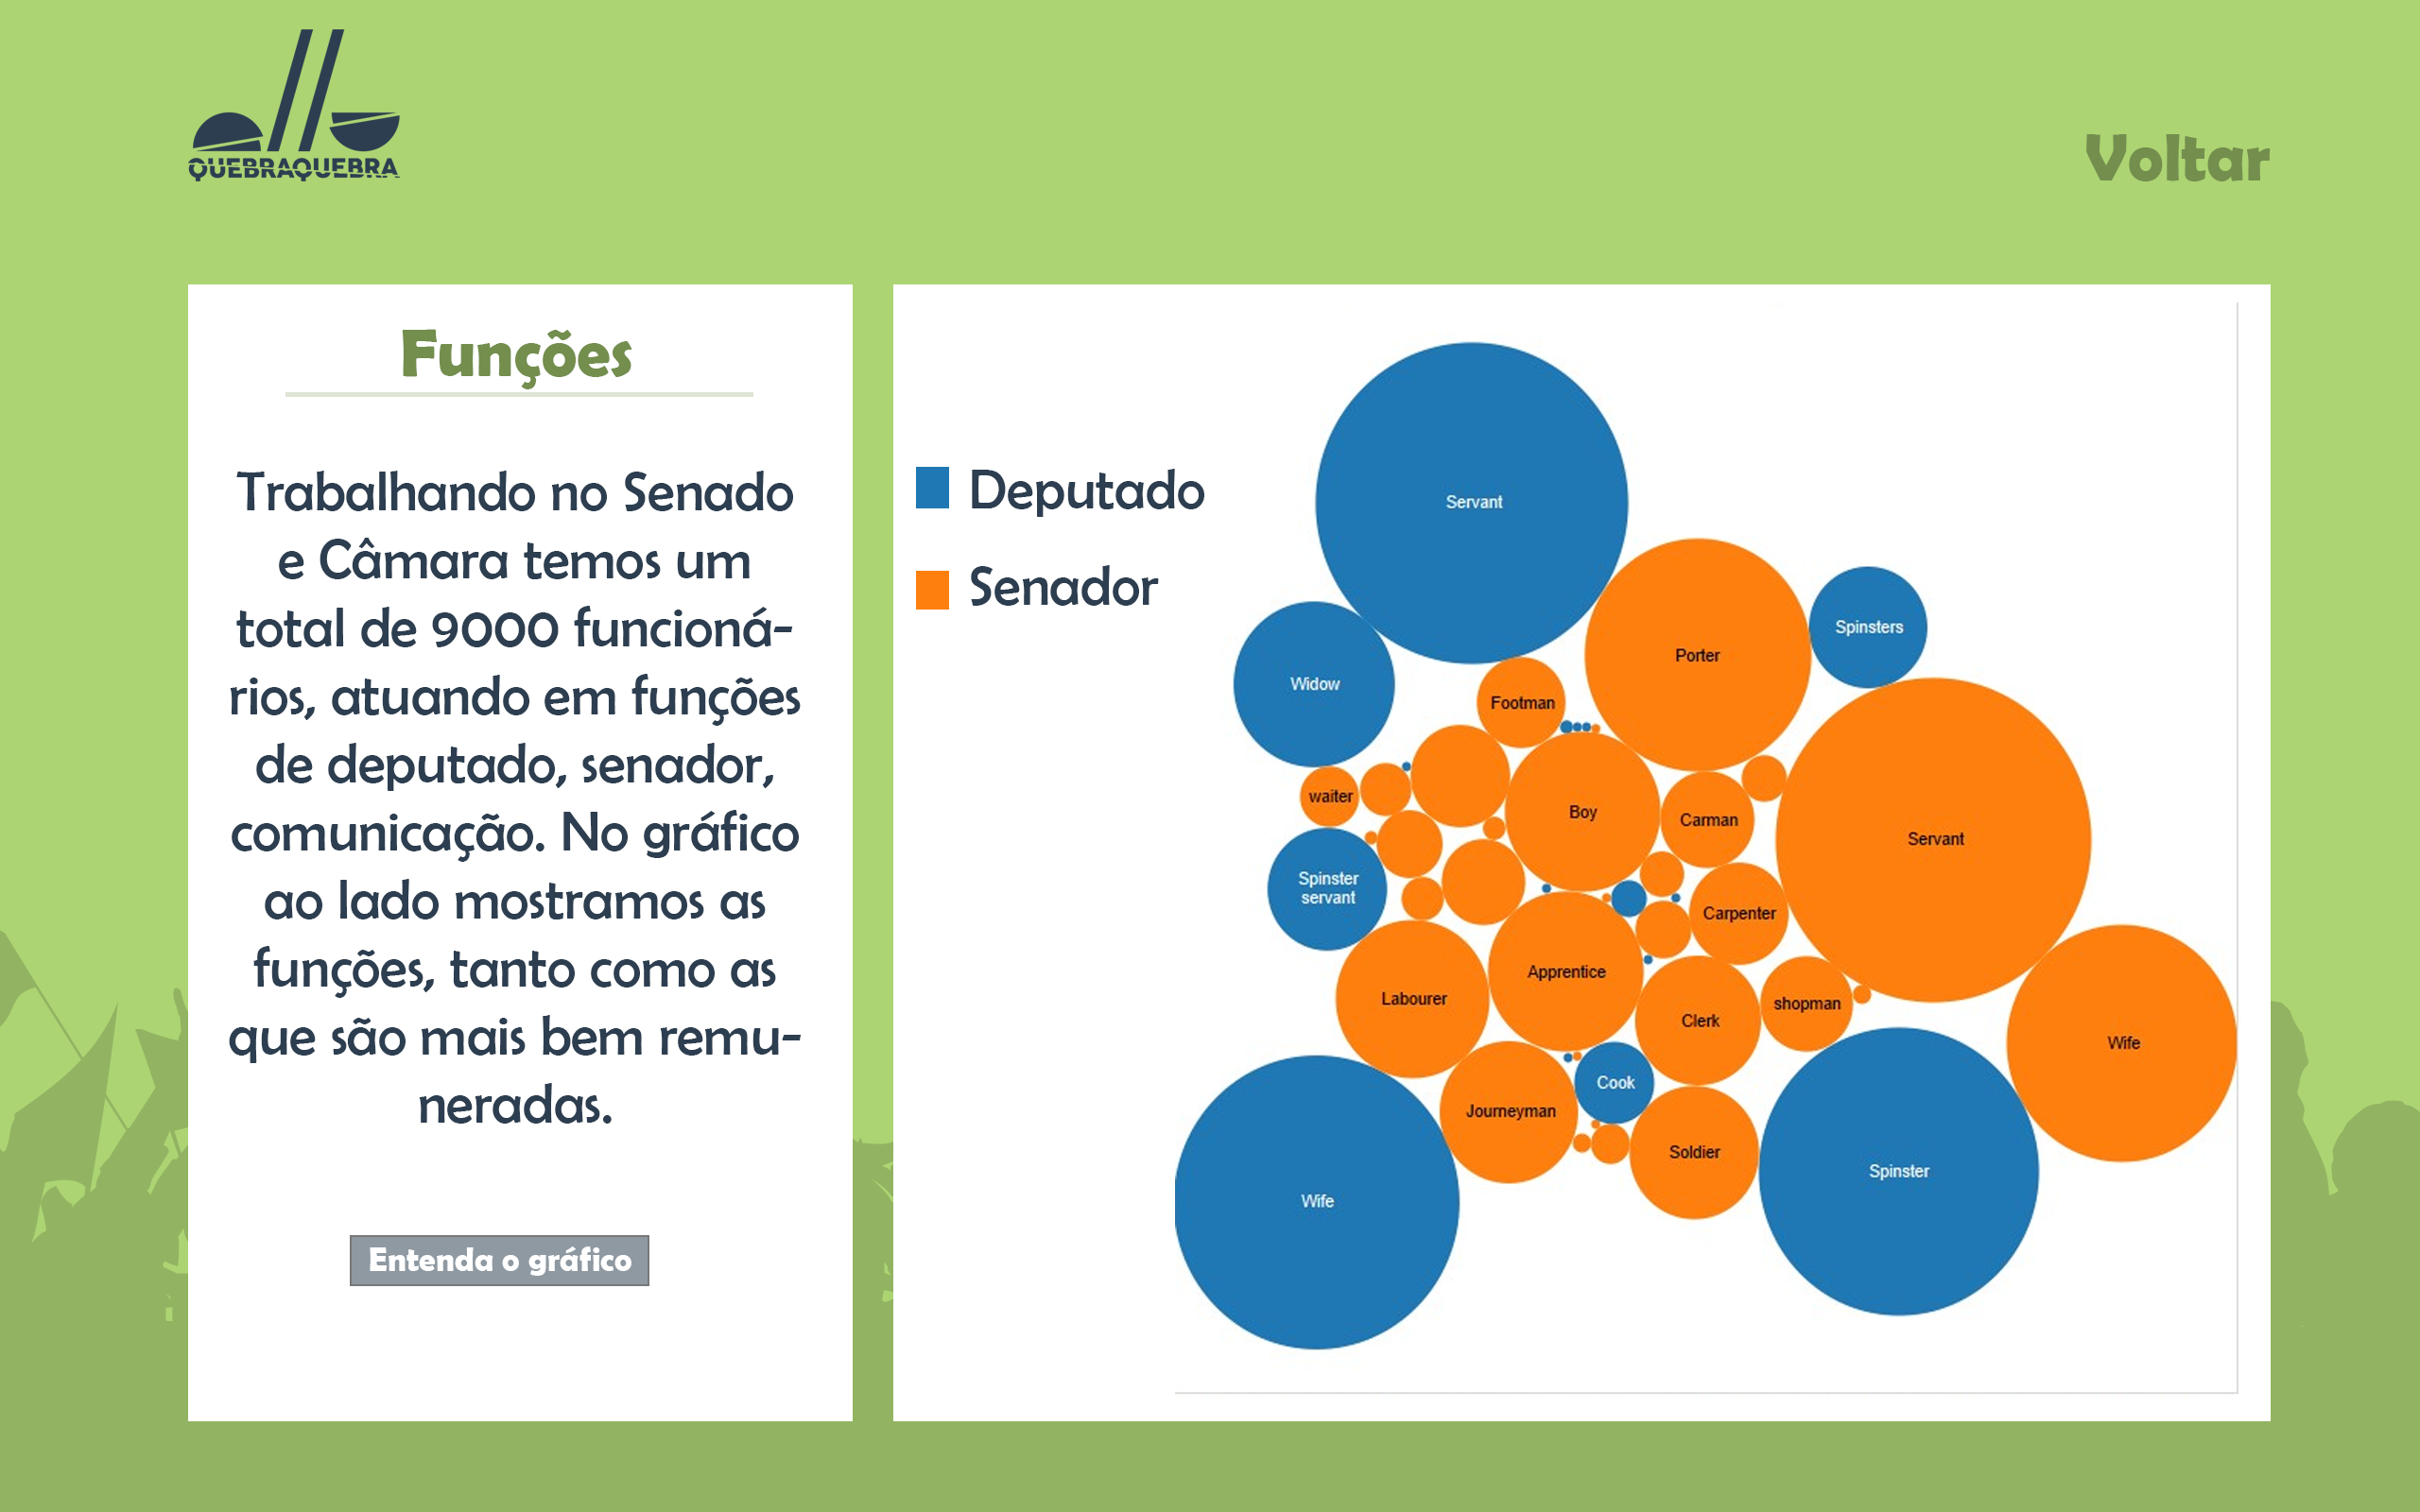

What the dashboard file says about the page in this screenshot:
{"tool":"tableau","page":{"name":"Painel 2","canvas":[650,860],"ordinal":1},"visuals":[{"type":"worksheet","title":"Planilha 6","mark":"Automatic","rows":["Number of Records"],"cols":["Mes (cópia)"],"box":[0,0,650,860]}]}

Visuals, with their boxes on the page's 650x860 design canvas (x1, y1, x2, y2). These are canvas units, not pixel positions in the 2420x1512 screenshot, which may show the page scaled, cropped or inside an application window:
"Planilha 6" worksheet: crop(0, 0, 650, 860)
